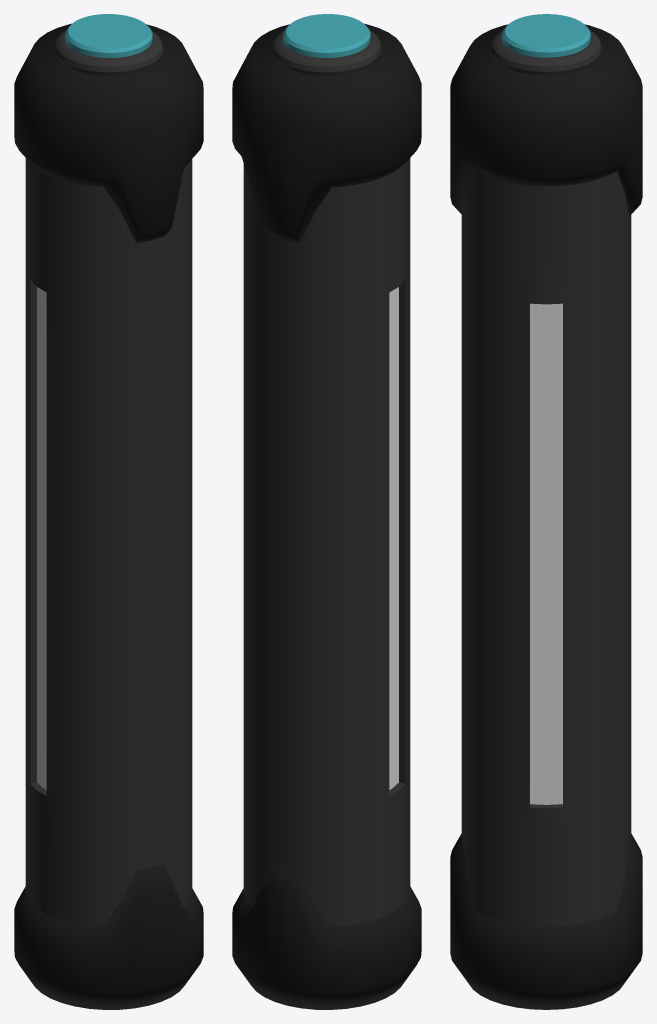
The model's file is Epipen.fbx.
The picture shows the model from 3 angles, left to right: view 1: azimuth 30°, elevation 25°; view 2: azimuth 150°, elevation 25°; view 3: azimuth 270°, elevation 25°; orthographic projection.
Visible parts, largest first — view 1: epipen; view 2: epipen; view 3: epipen.
Boxes of the visible parts, bbox=[...] form: epipen: bbox=[14, 14, 203, 1009]; epipen: bbox=[232, 14, 421, 1009]; epipen: bbox=[450, 14, 642, 1009].
Bounding box in the file's own units: 0.018 × 0.1016 × 0.0183.
